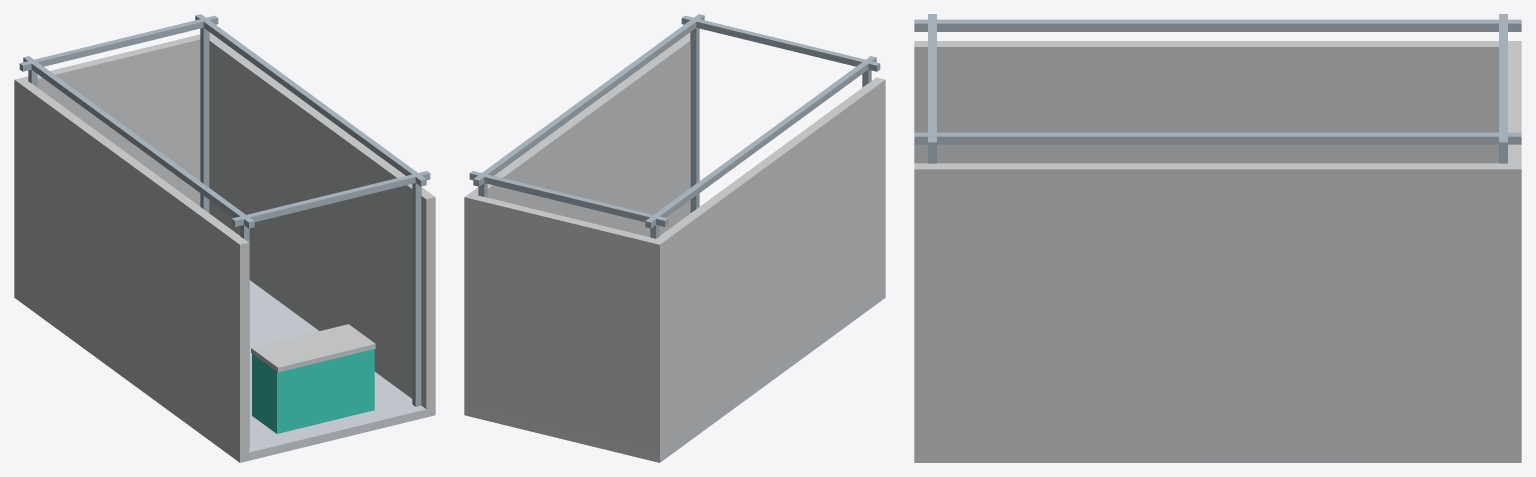
3 renders of one model, left to right at view 1: azimuth 30°, elevation 25°; view 2: azimuth 150°, elevation 25°; view 3: azimuth 270°, elevation 25°, orthographic. The views are drawn at different scales.
Visible parts, largest first — view 1: Exhibition Booth Concept; view 2: Exhibition Booth Concept; view 3: Exhibition Booth Concept.
Part boxes in pixels (<box>): Exhibition Booth Concept: <box>14,14,435,462</box>; Exhibition Booth Concept: <box>464,14,885,462</box>; Exhibition Booth Concept: <box>914,14,1521,462</box>.
Size of the model in its own units: 3 by 3.49 by 6.
